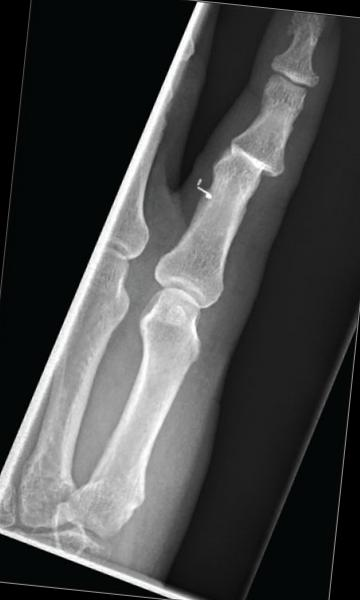fracture: (81, 475, 148, 514), (224, 139, 274, 177)
